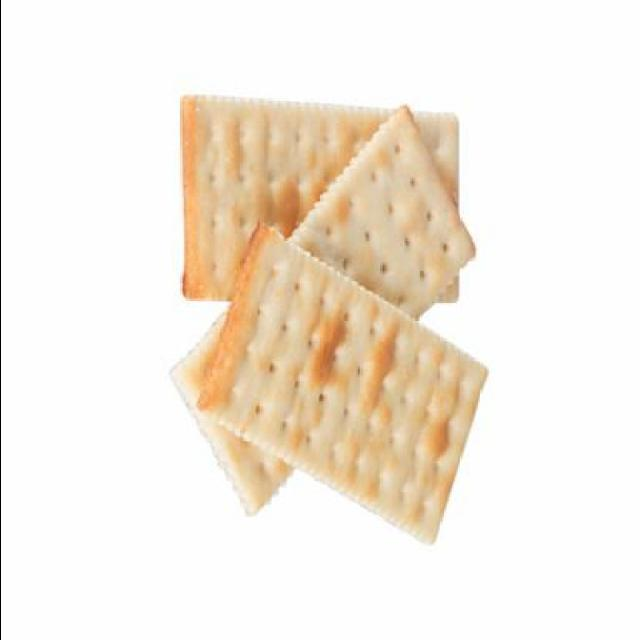Cracker packaged: (167, 114, 478, 518), (178, 237, 480, 540), (168, 90, 480, 302)
